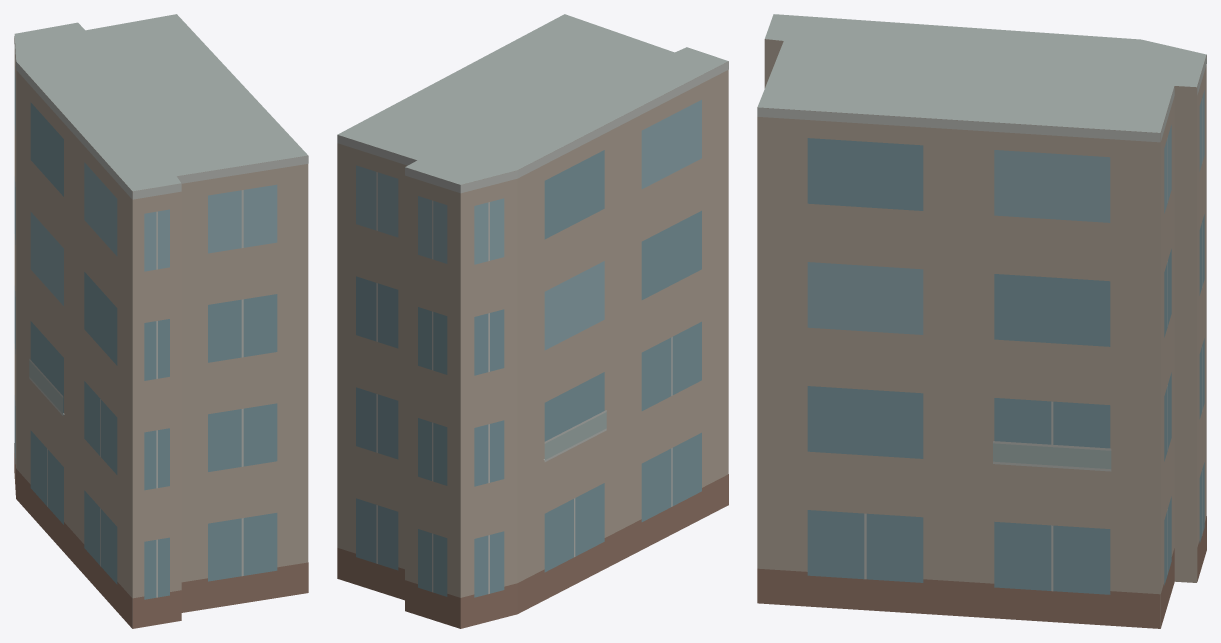
File: survey-upis-32473910.glb
The picture shows the model from 3 angles, left to right: view 1: azimuth 30°, elevation 25°; view 2: azimuth 150°, elevation 25°; view 3: azimuth 270°, elevation 25°; orthographic projection. The views are drawn at different scales.
Visible parts, largest first — view 1: survey-upis-32473910.tmp; view 2: survey-upis-32473910.tmp; view 3: survey-upis-32473910.tmp.
Boxes of the visible parts, x1,y1,x2,y2 form: survey-upis-32473910.tmp: (14,14,308,628); survey-upis-32473910.tmp: (337,14,728,628); survey-upis-32473910.tmp: (757,14,1206,628).
Size of the model in its own units: 6.62 by 12.85 by 10.56.
